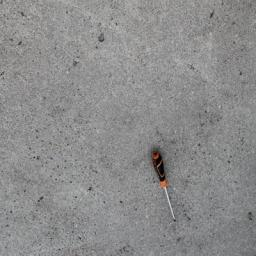FOD: (150, 152, 180, 226)
